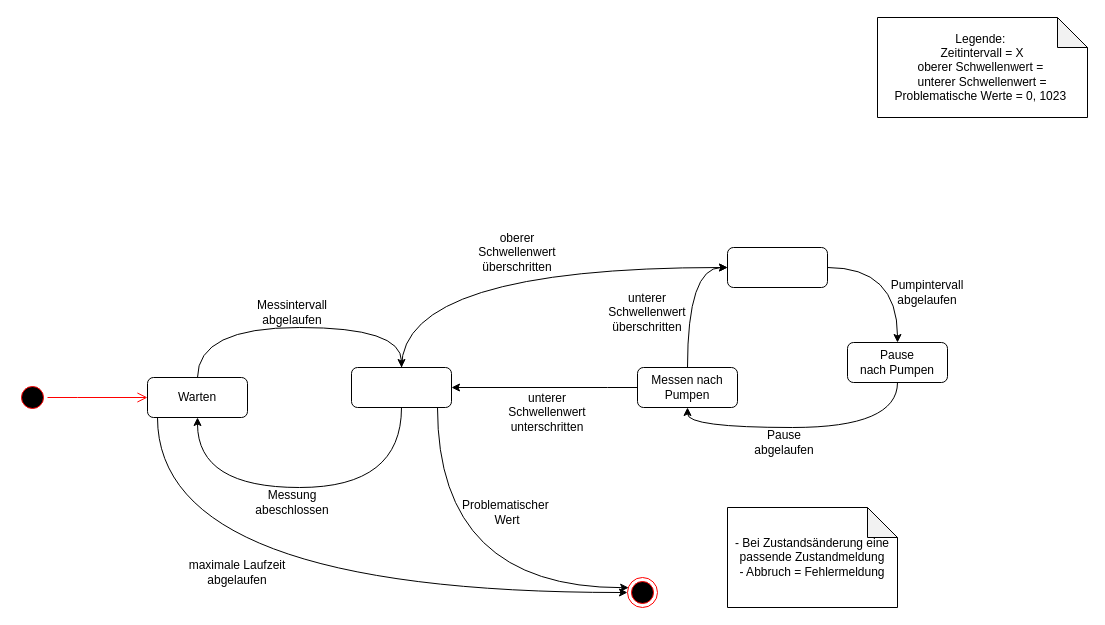
Some shapes in this 1105 by 625 pixel diagram are drawn without their labels. Each missing label, with the centre of its shape:
Normal Messen: (x=401, y=387)
Pumpen: (x=777, y=267)
